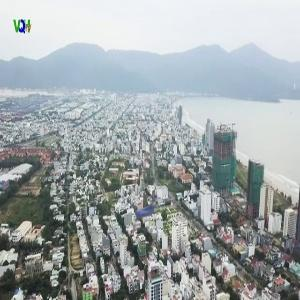drone: (123, 183, 171, 231)
